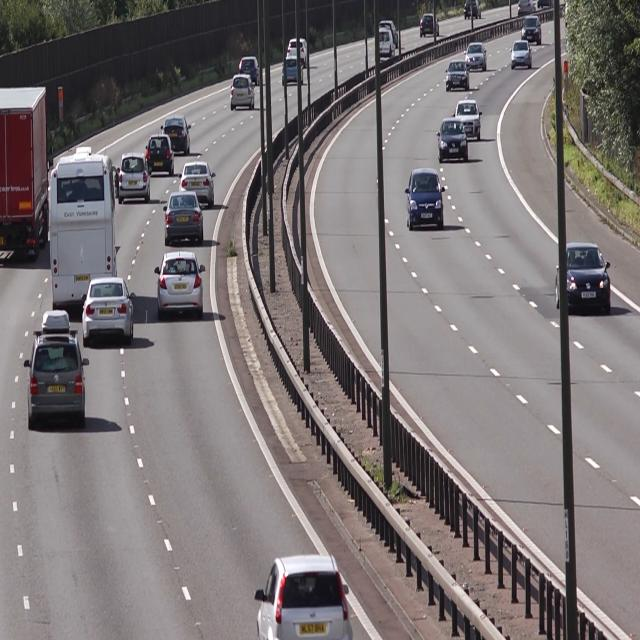Car: (43, 157, 126, 310), (0, 84, 48, 266), (259, 554, 354, 640), (24, 310, 87, 425), (552, 245, 612, 321), (82, 276, 136, 348), (154, 249, 208, 319), (404, 160, 446, 231), (160, 189, 204, 246), (178, 159, 216, 211), (120, 146, 151, 208), (436, 117, 471, 163), (146, 132, 176, 178), (162, 114, 192, 154), (228, 73, 256, 114), (456, 99, 481, 143), (510, 37, 534, 71), (448, 56, 470, 92), (240, 53, 264, 83), (466, 43, 488, 72), (522, 17, 544, 44)
